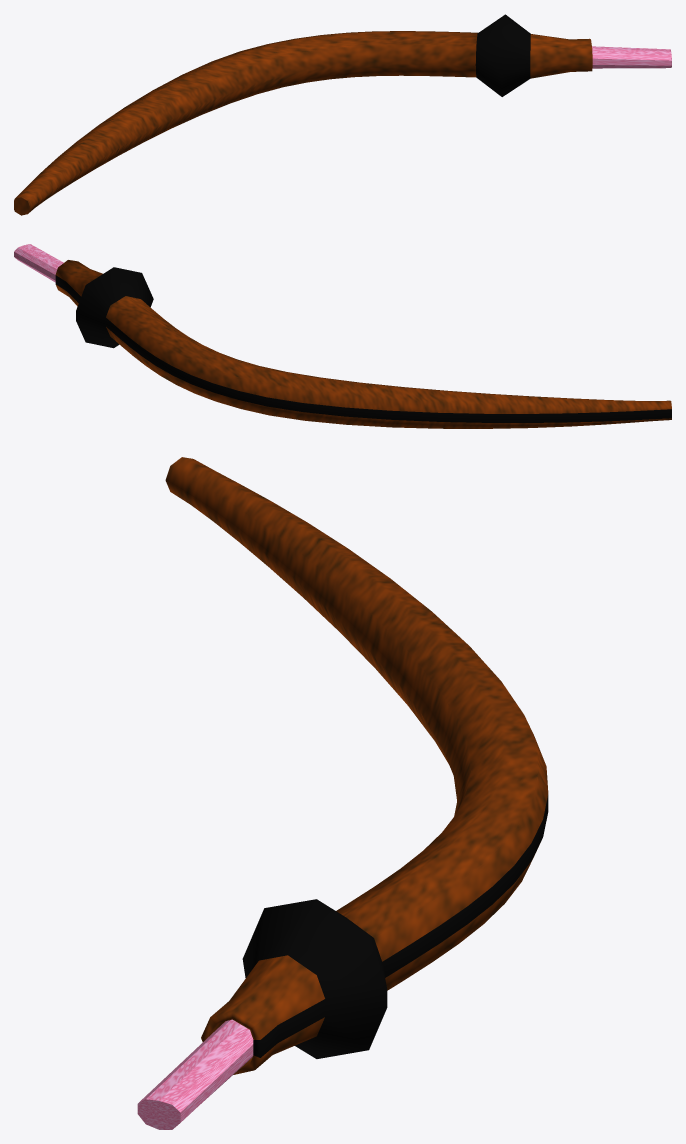
Rendered from bow meat.fbx.
3 renders of one model, top to bottom at view 1: azimuth 30°, elevation 25°; view 2: azimuth 150°, elevation 25°; view 3: azimuth 270°, elevation 25°, orthographic. The views are drawn at different scales.
Parts seen in each view (by area): view 1: Arc.001; view 2: Arc.001; view 3: Arc.001.
Part boxes in pixels (left/top/right/bottom): Arc.001: left=14, top=14, right=671, bottom=215; Arc.001: left=14, top=244, right=671, bottom=428; Arc.001: left=137, top=457, right=548, bottom=1129.
Size of the model in its own units: 240 by 28.1 by 65.32.
